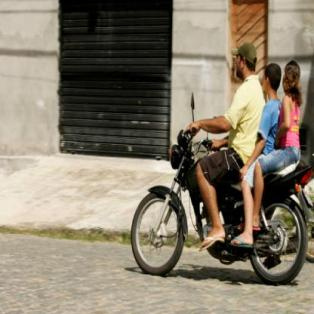Motocicleta: (126, 118, 314, 282)
